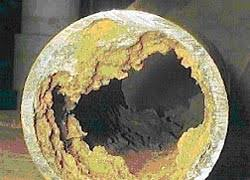rust: (34, 73, 94, 169), (98, 25, 175, 74)
